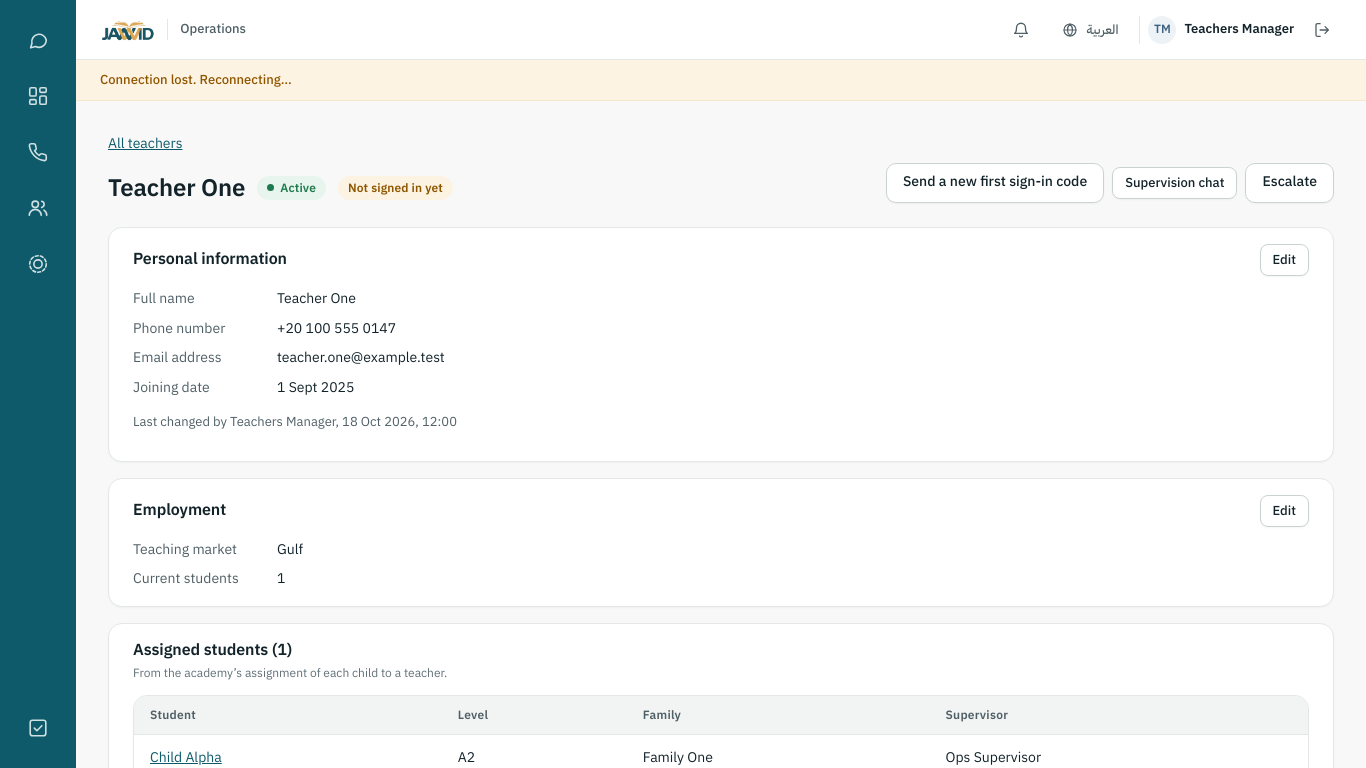
Test: a new first sign-in code › the Teachers manager sends one and sees it once
The image size is (1366, 768).
Expected: the text "Not signed in yet" is shown, 338,176 -> 453,200
Click the button "Send a new first sign-in code" at (995, 183), box 886,163 -> 1104,203
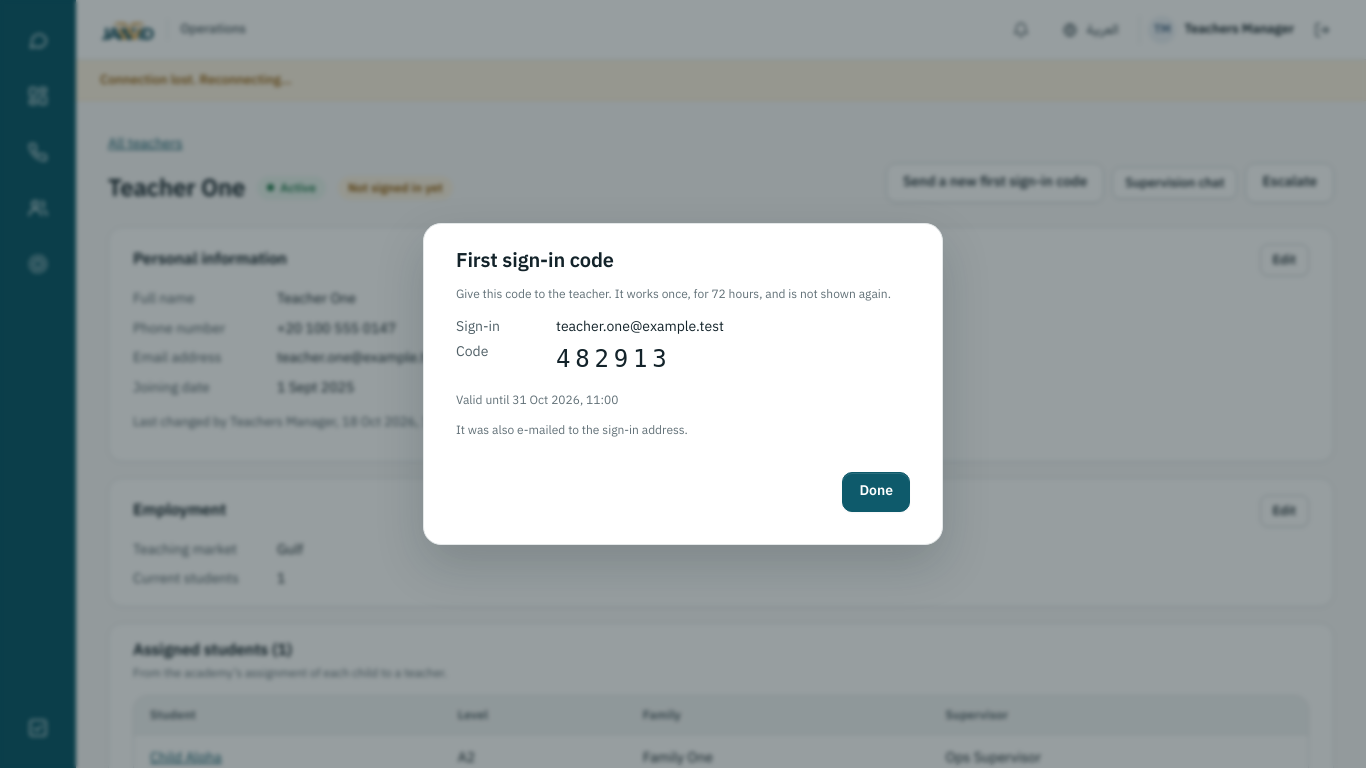
Result: the text "482913" is shown at 556,346 -> 672,374
Result: the text "It was also e-mailed to the sign-in address." is shown at 456,421 -> 688,439
